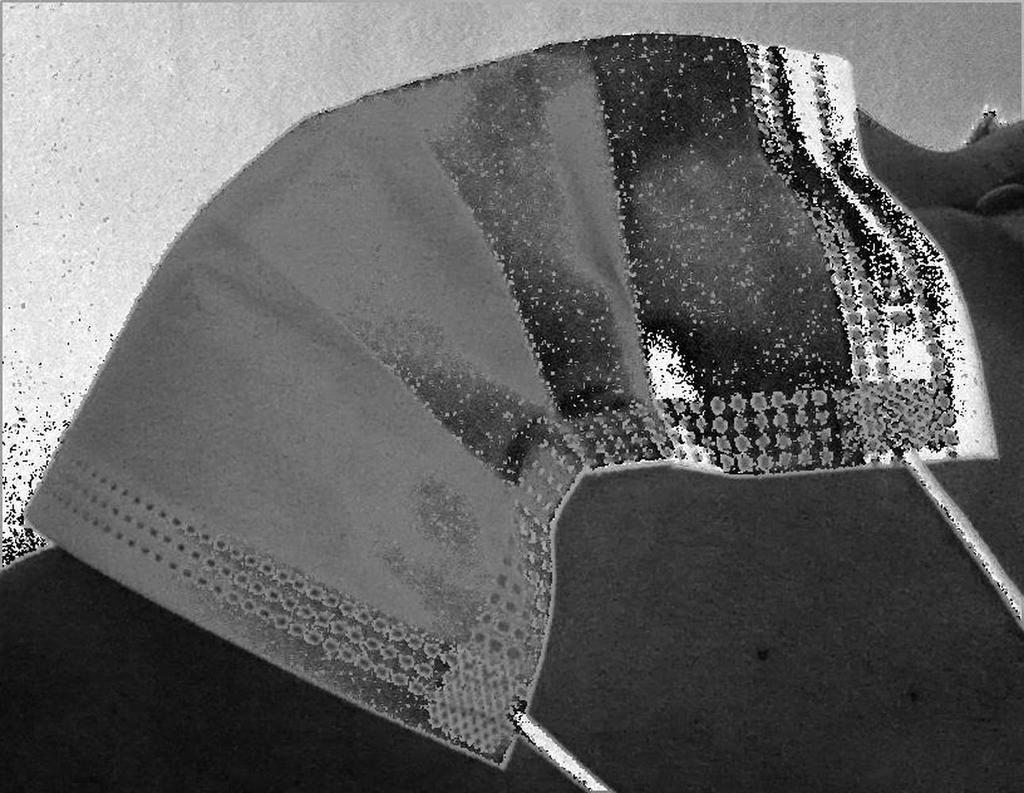Low GSM: (24, 26, 1001, 775)
